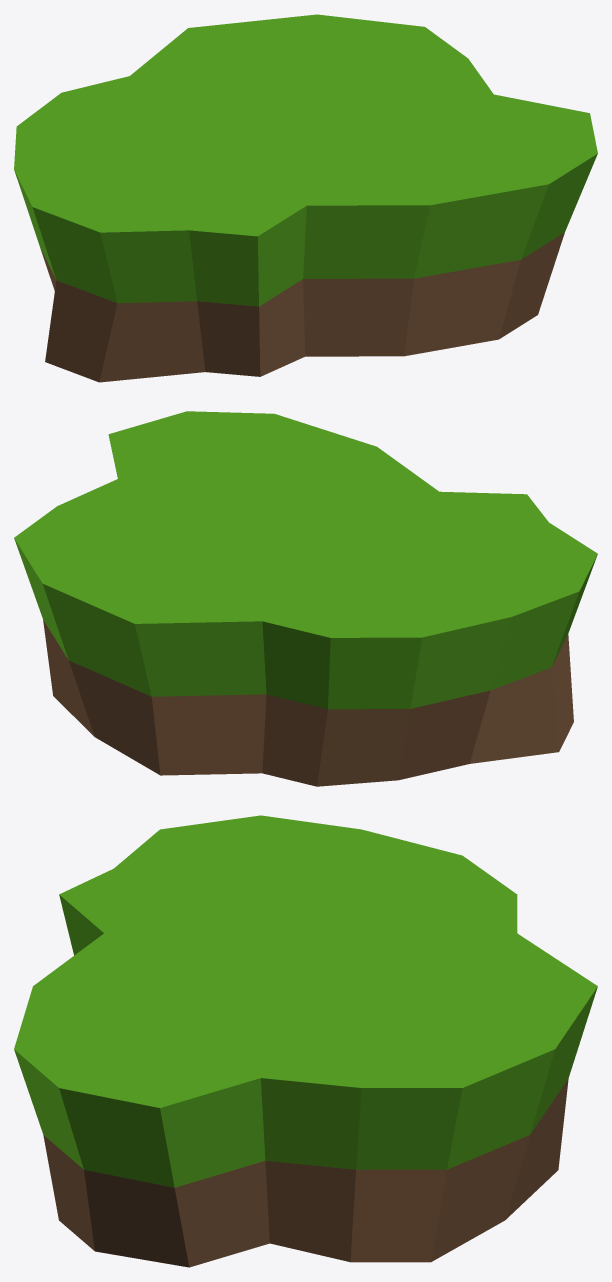
Rendered from Isl_15_Base_2.fbx.
3 renders of one model, top to bottom at view 1: azimuth 30°, elevation 25°; view 2: azimuth 150°, elevation 25°; view 3: azimuth 270°, elevation 25°, orthographic. The views are drawn at different scales.
Parts seen in each view (by area): view 1: Isl_15_Base_2; view 2: Isl_15_Base_2; view 3: Isl_15_Base_2.
Part boxes in pixels (box(x1,y1,x2,y2)): Isl_15_Base_2: box(14, 14, 597, 382); Isl_15_Base_2: box(14, 411, 597, 786); Isl_15_Base_2: box(14, 815, 597, 1267).
Size of the model in its own units: 1557 by 1313 by 468.
1 material, 1 textured.
